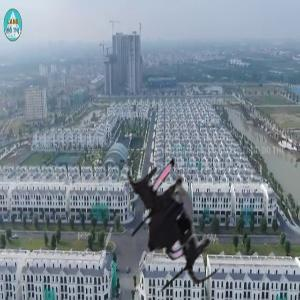drone: (95, 147, 245, 297)
